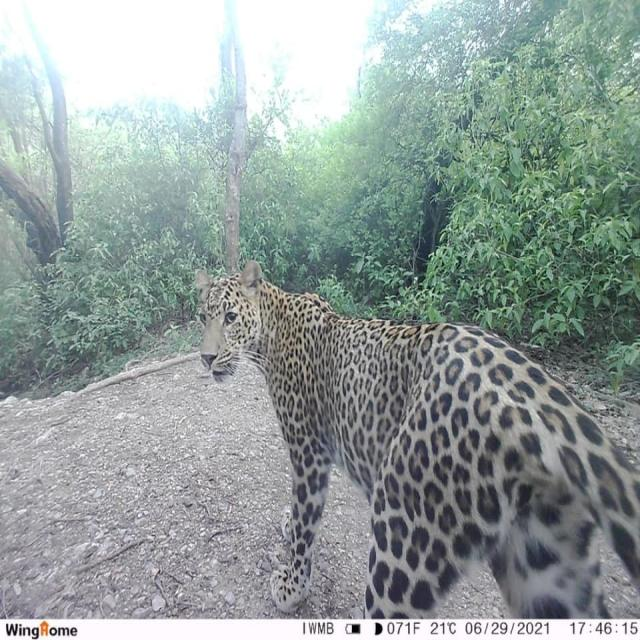Leopard: (192, 258, 640, 610)
